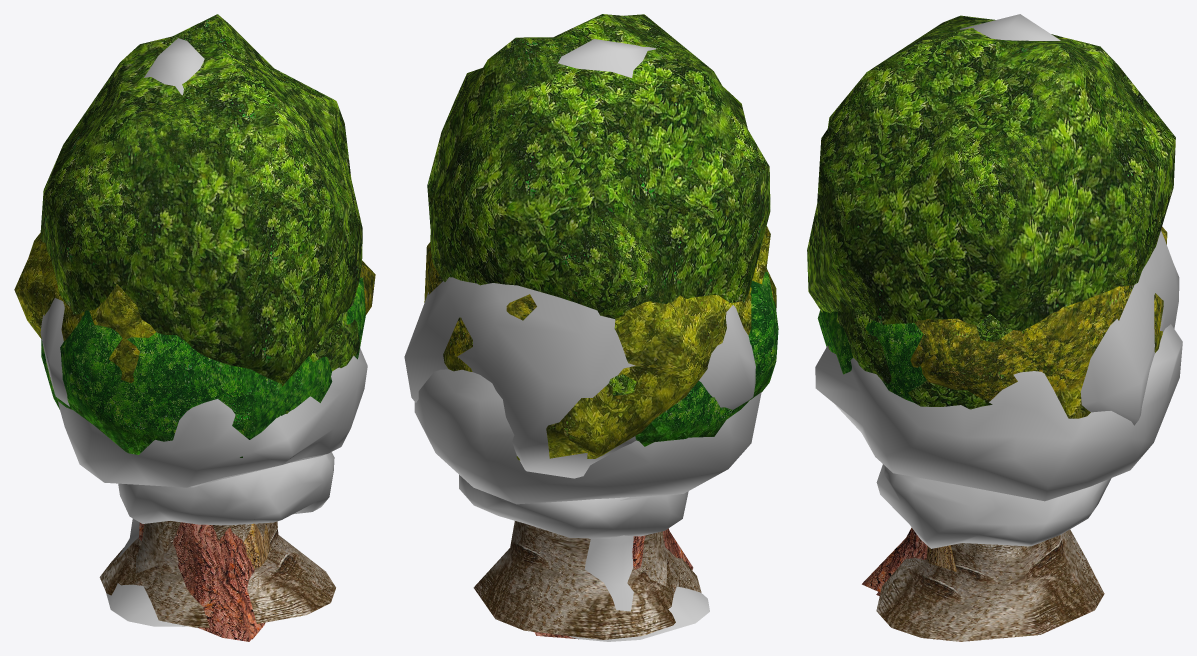
The model's file is all trees mesh.fbx.
3 renders of one model, left to right at view 1: azimuth 30°, elevation 25°; view 2: azimuth 150°, elevation 25°; view 3: azimuth 270°, elevation 25°, orthographic. The views are drawn at different scales.
Visible parts, largest first — view 1: tree06, tree03, tree10, tree08, tree07, tree05, tree09, tree02, tree01; view 2: tree06, tree09, tree10, tree02, tree08, tree03, tree05, tree07; view 3: tree06, tree10, tree08, tree02, tree05, tree09, tree01, tree07.
Part boxes in pixels (bbox=[...]): tree06: bbox=[40, 14, 362, 568]; tree03: bbox=[41, 310, 295, 573]; tree10: bbox=[58, 348, 367, 629]; tree08: bbox=[99, 277, 365, 627]; tree07: bbox=[38, 241, 370, 641]; tree05: bbox=[118, 452, 334, 525]; tree09: bbox=[40, 38, 204, 626]; tree02: bbox=[14, 233, 375, 639]; tree01: bbox=[72, 311, 359, 413]; tree06: bbox=[427, 14, 770, 319]; tree09: bbox=[404, 39, 755, 641]; tree10: bbox=[414, 369, 761, 504]; tree02: bbox=[424, 242, 713, 637]; tree08: bbox=[473, 521, 701, 639]; tree03: bbox=[635, 268, 778, 586]; tree05: bbox=[459, 475, 688, 538]; tree07: bbox=[535, 226, 776, 639]; tree06: bbox=[807, 15, 1175, 571]; tree10: bbox=[815, 324, 1182, 501]; tree08: bbox=[825, 311, 1104, 641]; tree02: bbox=[876, 226, 1167, 595]; tree05: bbox=[876, 464, 1111, 548]; tree09: bbox=[960, 14, 1179, 425]; tree01: bbox=[828, 301, 1012, 409]; tree07: bbox=[862, 320, 938, 592].
Bounding box in the file's own units: 283 × 496 × 291.
